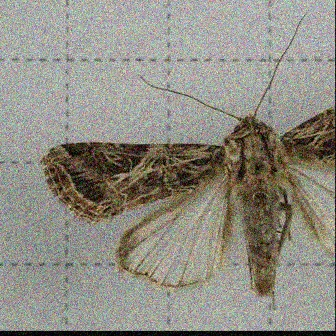Spodoptera litura: (41, 11, 335, 307)
